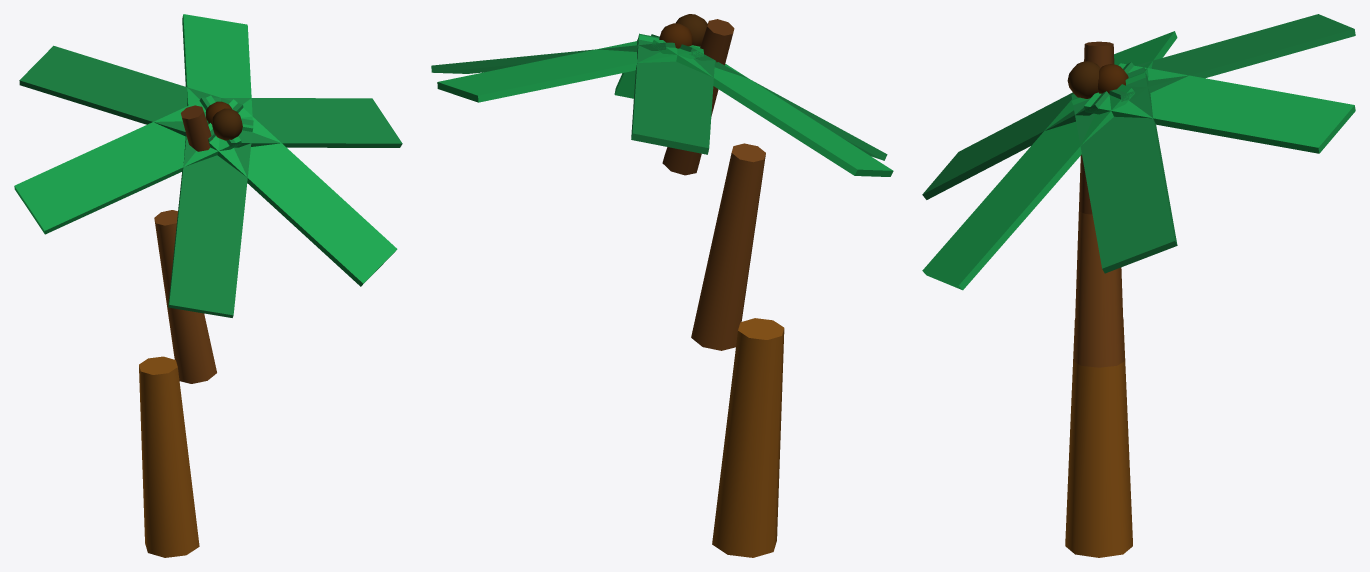
The model's file is tropical_palm.glb.
3 views of the same model, side by side, from view 1: azimuth 30°, elevation 25°; view 2: azimuth 150°, elevation 25°; view 3: azimuth 270°, elevation 25° (orthographic). The views are drawn at different scales.
Parts seen in each view (by area): view 1: TropicalPalm; view 2: TropicalPalm; view 3: TropicalPalm.
Part boxes in pixels (x1,y1,x2,y2): TropicalPalm: [14, 14, 402, 557]; TropicalPalm: [431, 14, 893, 557]; TropicalPalm: [922, 14, 1355, 557].
Bounding box in the file's own units: 4.09 × 4.73 × 3.57.
